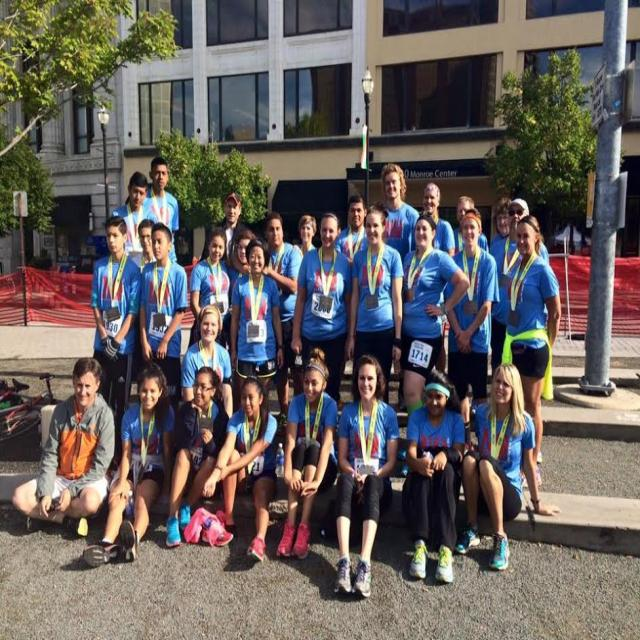body: (448, 360, 563, 575), (79, 359, 182, 570), (8, 353, 119, 542), (330, 352, 402, 602), (501, 212, 563, 491), (442, 206, 502, 463), (201, 371, 279, 565), (400, 214, 472, 423), (272, 343, 340, 563), (162, 364, 241, 552), (87, 211, 146, 454), (404, 364, 467, 587), (344, 201, 406, 406), (290, 212, 353, 410), (489, 197, 550, 373), (138, 221, 190, 416), (260, 210, 305, 434), (229, 236, 286, 411), (489, 197, 531, 382), (179, 302, 235, 420), (187, 225, 234, 350), (141, 154, 181, 264), (379, 162, 420, 264), (109, 170, 160, 252), (199, 189, 244, 264), (226, 228, 258, 330), (422, 181, 456, 259), (334, 193, 369, 260), (452, 195, 490, 256), (130, 217, 158, 275), (294, 213, 318, 257)
